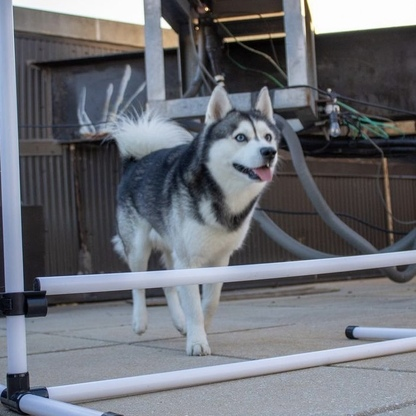husky: (97, 77, 286, 360)
